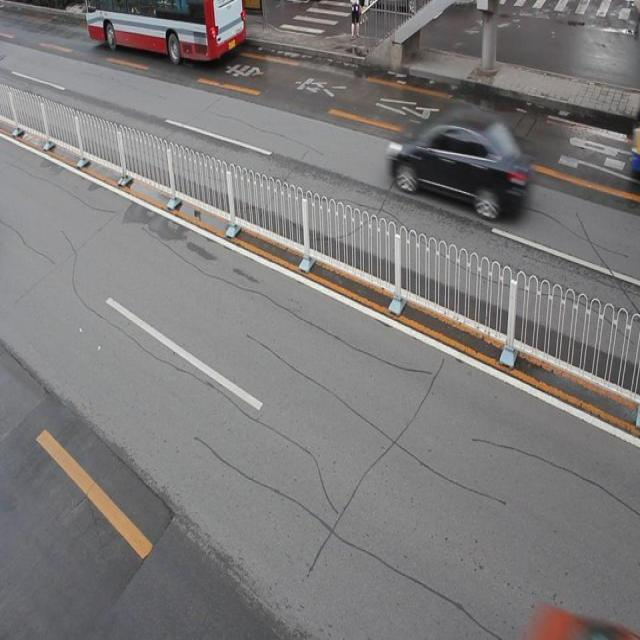car: (388, 110, 532, 220)
van: (88, 1, 247, 64)
